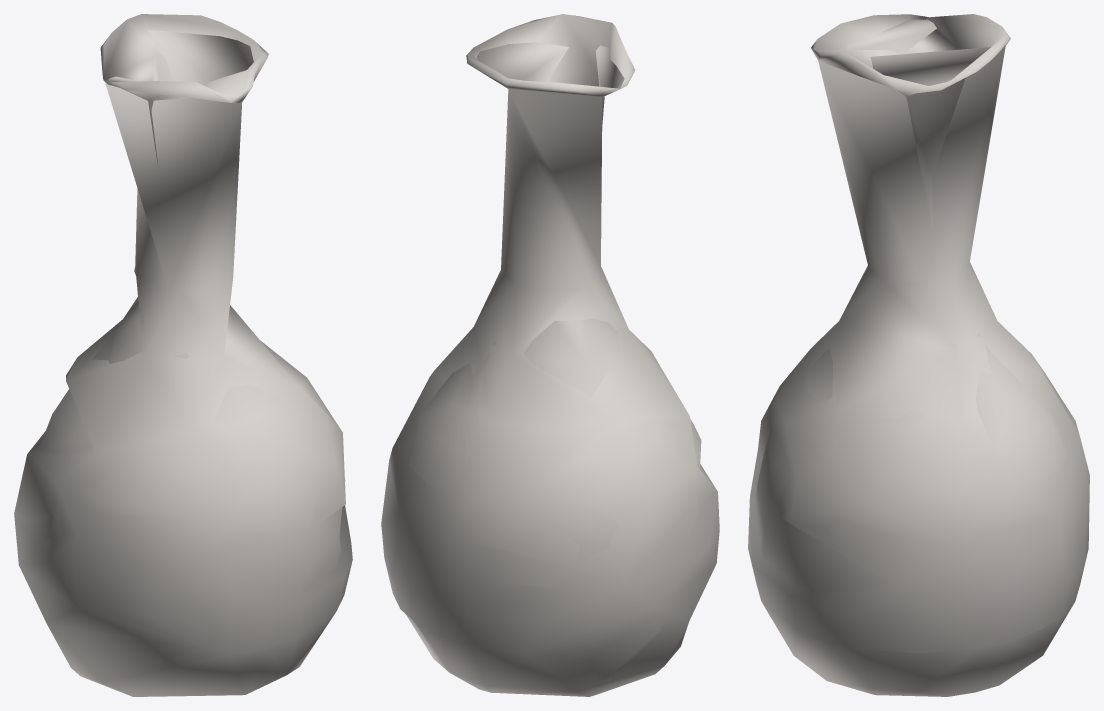
File: ceramic_vase_01.glb
3 renders of one model, left to right at view 1: azimuth 30°, elevation 25°; view 2: azimuth 150°, elevation 25°; view 3: azimuth 270°, elevation 25°, orthographic.
Parts seen in each view (by area): view 1: ceramic_vase_01; view 2: ceramic_vase_01; view 3: ceramic_vase_01.
Boxes of the visible parts, x1,y1,x2,y2 form: ceramic_vase_01: (14, 14, 352, 696); ceramic_vase_01: (381, 14, 719, 696); ceramic_vase_01: (748, 14, 1089, 696).
Size of the model in its own units: 0.2022 by 0.3998 by 0.2007.
1 material, 1 textured.
